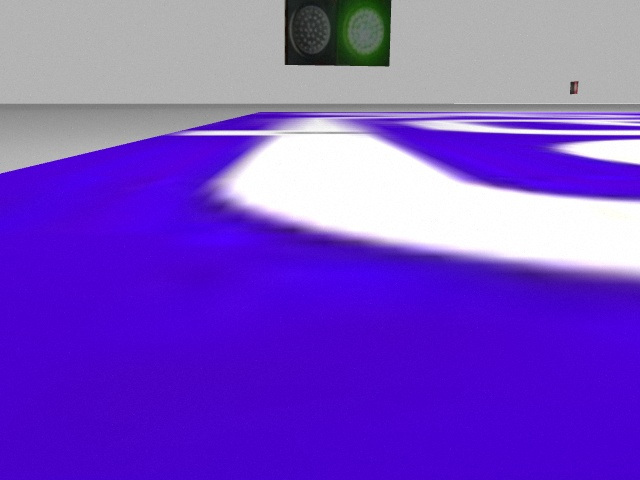green: (339, 1, 391, 69)
